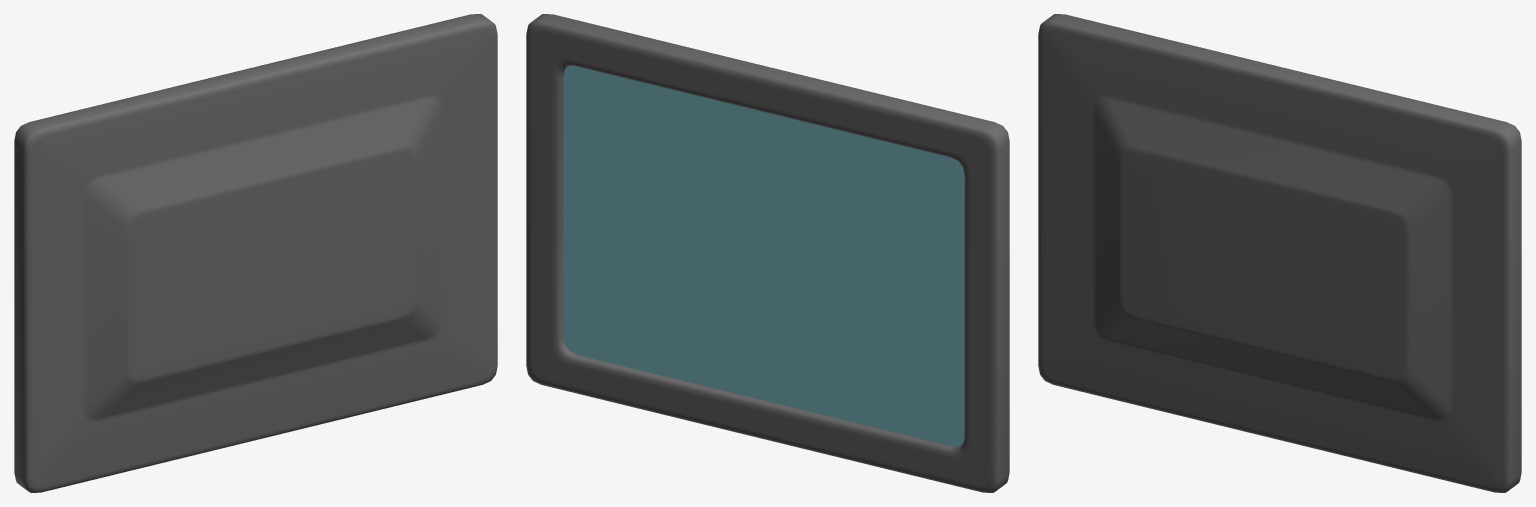
The picture shows the model from 3 angles, left to right: view 1: azimuth 30°, elevation 25°; view 2: azimuth 150°, elevation 25°; view 3: azimuth 330°, elevation 25°; orthographic projection.
Visible parts, largest first — view 1: TV; view 2: TV; view 3: TV.
Part boxes in pixels (left/top/right/bottom): TV: left=14, top=14, right=497, bottom=492; TV: left=526, top=14, right=1009, bottom=492; TV: left=1038, top=14, right=1521, bottom=492.
Bounding box in the file's own units: 25.87 × 18.99 × 2.17.
